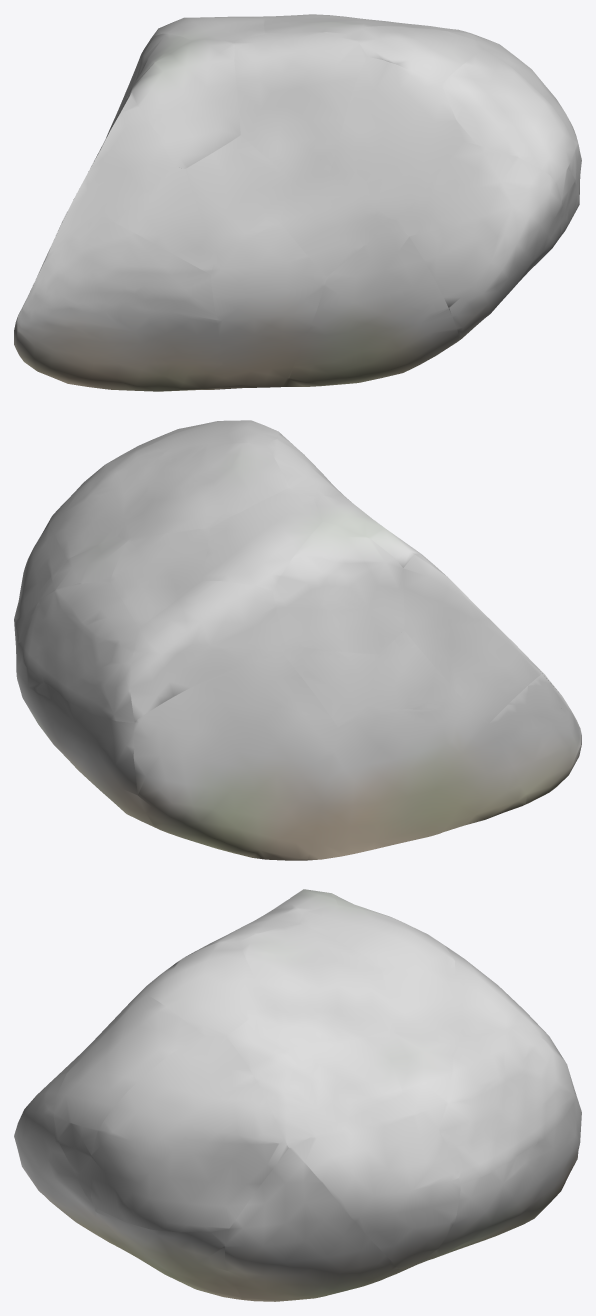
The model's file is rock.glb.
The picture shows the model from 3 angles, top to bottom: view 1: azimuth 30°, elevation 25°; view 2: azimuth 150°, elevation 25°; view 3: azimuth 270°, elevation 25°; orthographic projection. The views are drawn at different scales.
Parts seen in each view (by area): view 1: Chunk_04, Chunk_10, Chunk_02, Chunk_28, Chunk_23, Chunk_07, Chunk_18, Chunk_25, Chunk_20, Chunk_17, Chunk_15, Chunk_12 (+5 smaller); view 2: Chunk_06, Chunk_01, Chunk_22, Chunk_19, Chunk_11, Chunk_17, Chunk_29, Chunk_03, Chunk_27, Chunk_04, Chunk_21, Chunk_24 (+7 smaller); view 3: Chunk_13, Chunk_08, Chunk_00, Chunk_11, Chunk_21, Chunk_29, Chunk_18, Chunk_03, Chunk_26, Chunk_24, Chunk_10, Chunk_27 (+5 smaller).
Boxes of the visible parts, x1,y1,x2,y2 form: Chunk_04: (14,222,225,391); Chunk_10: (398,142,562,341); Chunk_02: (285,219,458,386); Chunk_28: (234,32,367,182); Chunk_23: (329,57,463,220); Chunk_07: (210,221,326,388); Chunk_18: (441,49,575,239); Chunk_25: (126,39,240,168); Chunk_20: (185,135,295,254); Chunk_17: (48,96,174,252); Chunk_15: (279,175,390,276); Chunk_12: (113,166,216,273); Chunk_06: (133,653,337,860); Chunk_01: (307,706,526,860); Chunk_22: (273,522,404,654); Chunk_19: (130,581,284,722); Chunk_11: (17,581,138,722); Chunk_17: (403,553,542,722); Chunk_29: (117,442,289,541); Chunk_03: (16,651,164,831); Chunk_27: (201,488,322,590); Chunk_04: (490,672,581,804); Chunk_21: (49,444,168,560); Chunk_24: (110,528,209,628); Chunk_13: (91,1035,288,1232); Chunk_08: (293,1094,460,1270); Chunk_00: (225,1148,401,1301); Chunk_11: (438,1027,575,1184); Chunk_21: (226,1008,402,1147); Chunk_29: (239,923,396,1044); Chunk_18: (53,994,204,1205); Chunk_03: (399,1089,581,1272); Chunk_26: (142,941,269,1036); Chunk_24: (381,967,517,1045); Chunk_10: (14,1045,136,1257); Chunk_27: (299,905,455,974).
Size of the model in its own units: 2.77 by 1.47 by 2.48.
